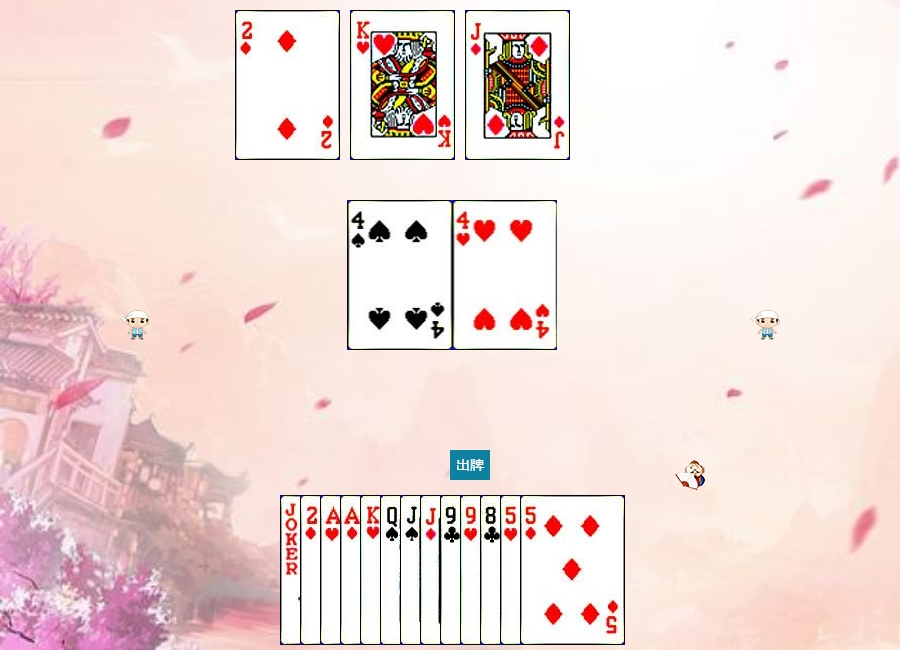11~1: (465, 10, 570, 160), (420, 495, 525, 645)
11~4: (400, 495, 505, 645)
12~4: (380, 495, 485, 645)
13~3: (350, 10, 455, 160), (360, 495, 465, 645)
14~1: (340, 495, 445, 645)
14~3: (320, 495, 425, 645)
15~1: (235, 10, 340, 160), (300, 495, 405, 645)
18~4: (280, 495, 385, 645)
4~3: (453, 200, 558, 350)
4~4: (348, 200, 453, 350)
5~1: (520, 495, 625, 645)
5~3: (500, 495, 605, 645)
8~2: (480, 495, 585, 645)
9~2: (440, 495, 545, 645)
9~3: (460, 495, 565, 645)
